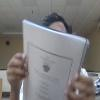notebook: (20, 18, 90, 99)
